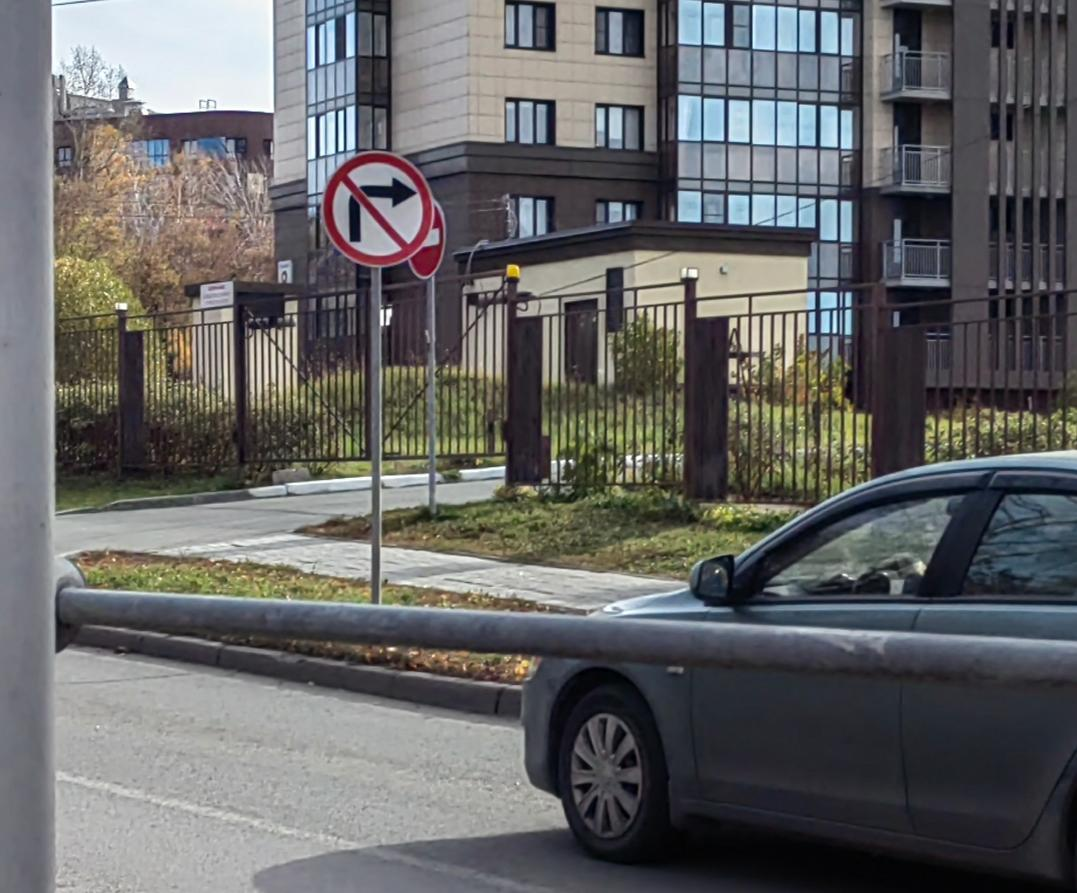obstructed_road_sign: (408, 198, 447, 280)
road_sign: (322, 150, 434, 265)
